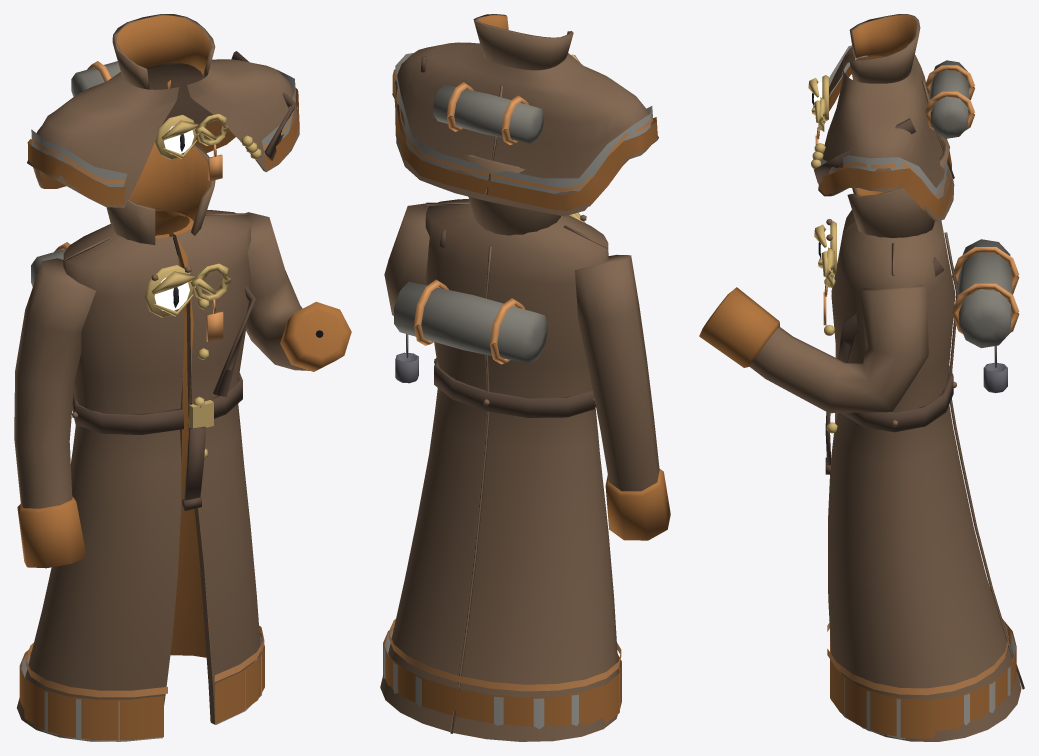
The model's file is coat-travelling.glb.
The picture shows the model from 3 angles, left to right: view 1: azimuth 30°, elevation 25°; view 2: azimuth 150°, elevation 25°; view 3: azimuth 270°, elevation 25°; orthographic projection. The views are drawn at different scales.
Visible parts, largest first — view 1: coat-travelling, coat-travelling_worn, sway_sleeve_r, sway_belt, blink_eye, sway_tag; view 2: coat-travelling, coat-travelling_worn, sway_sleeve_r, sway_cup; view 3: coat-travelling, coat-travelling_worn, sway_cup.
Boxes of the visible parts, box(x1,y1,x2,y2) form: coat-travelling: box(17, 141, 351, 741); coat-travelling_worn: box(27, 14, 299, 207); sway_sleeve_r: box(14, 258, 95, 568); sway_belt: box(182, 426, 206, 510); blink_eye: box(154, 277, 189, 310); sway_tag: box(206, 299, 223, 342); coat-travelling: box(380, 154, 621, 741); coat-travelling_worn: box(392, 14, 658, 216); sway_sleeve_r: box(575, 254, 670, 540); sway_cup: box(395, 334, 418, 383); coat-travelling: box(699, 136, 1024, 741); coat-travelling_worn: box(808, 14, 974, 221); sway_cup: box(983, 345, 1007, 393).
Bounding box in the file's own units: 0.9344 × 2.18 × 0.9715.
